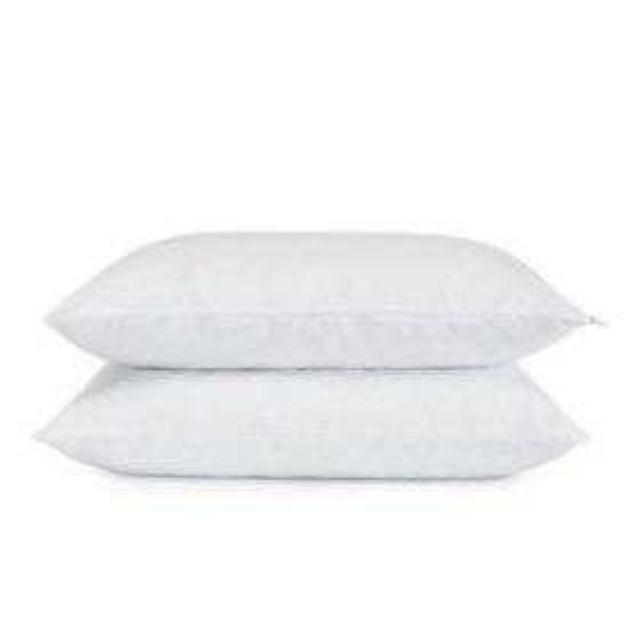pillow: (41, 226, 605, 370), (32, 362, 590, 480)
